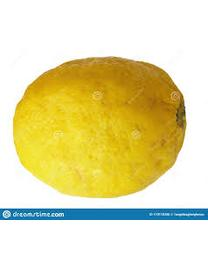lemon: (13, 57, 187, 198)
